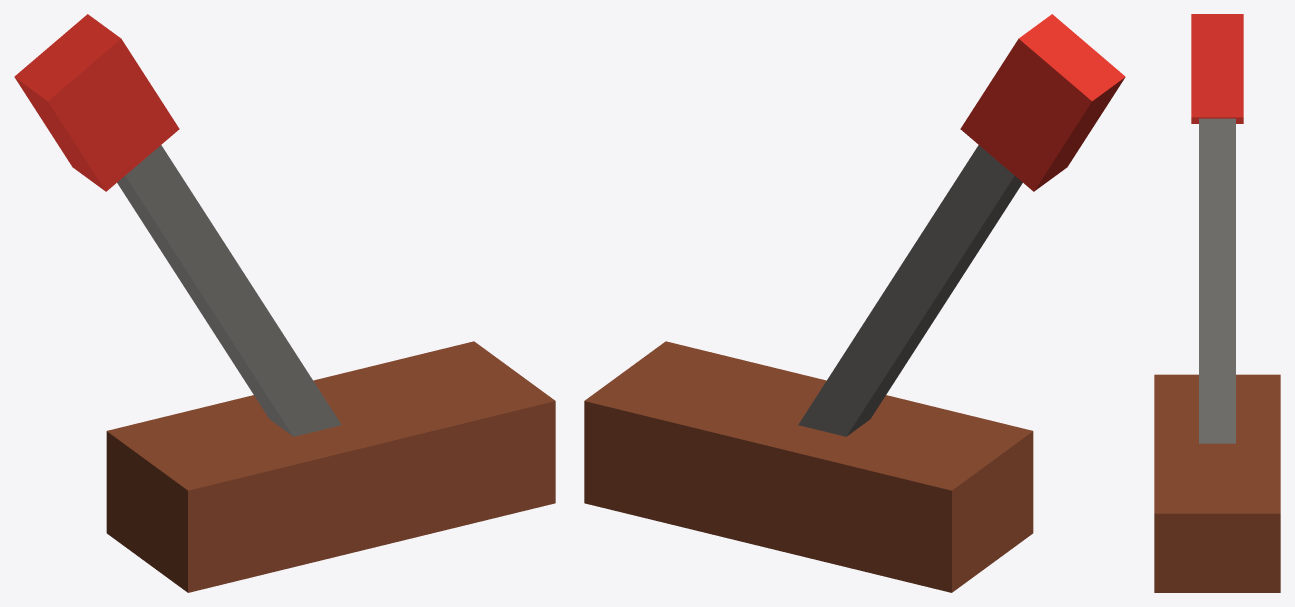
File: lever.glb
3 renders of one model, left to right at view 1: azimuth 30°, elevation 25°; view 2: azimuth 150°, elevation 25°; view 3: azimuth 270°, elevation 25°, orthographic. The views are drawn at different scales.
Visible parts, largest first — view 1: Cube, Cube.001, Cube.002; view 2: Cube, Cube.001, Cube.002; view 3: Cube, Cube.001, Cube.002.
Boxes of the visible parts, <box> form: Cube: <box>106,341,555,592</box>; Cube.001: <box>117,145,341,436</box>; Cube.002: <box>14,14,179,191</box>; Cube: <box>584,341,1033,592</box>; Cube.001: <box>798,145,1022,436</box>; Cube.002: <box>960,14,1125,191</box>; Cube: <box>1154,374,1280,592</box>; Cube.001: <box>1199,118,1235,443</box>; Cube.002: <box>1191,14,1243,123</box>.
Size of the model in its own units: 2.47 by 2.67 by 0.7226.
